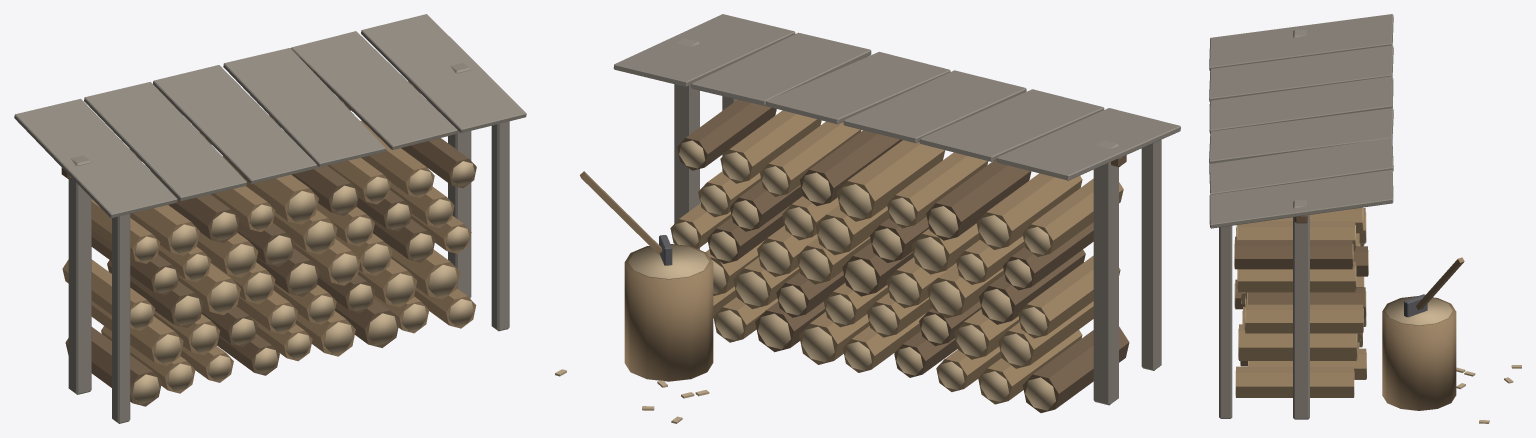
File: v_woodpile.glb
3 renders of one model, left to right at view 1: azimuth 30°, elevation 25°; view 2: azimuth 150°, elevation 25°; view 3: azimuth 270°, elevation 25°, orthographic. The views are drawn at different scales.
Parts seen in each view (by area): view 1: Drevo; view 2: Drevo; view 3: Drevo.
Boxes of the visible parts, x1,y1,x2,y2 form: Drevo: [14, 14, 526, 423]; Drevo: [555, 14, 1180, 423]; Drevo: [1209, 14, 1521, 423].
Size of what is drawn, in the model's own units: 2.63 by 1.48 by 1.86.
